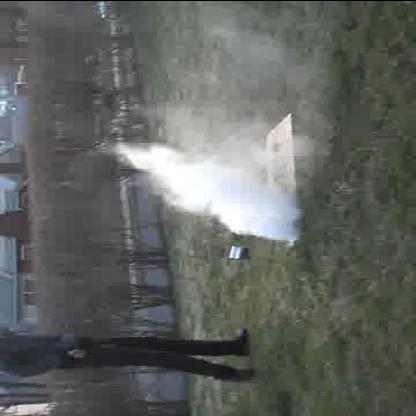Smoke: (124, 129, 304, 241)
